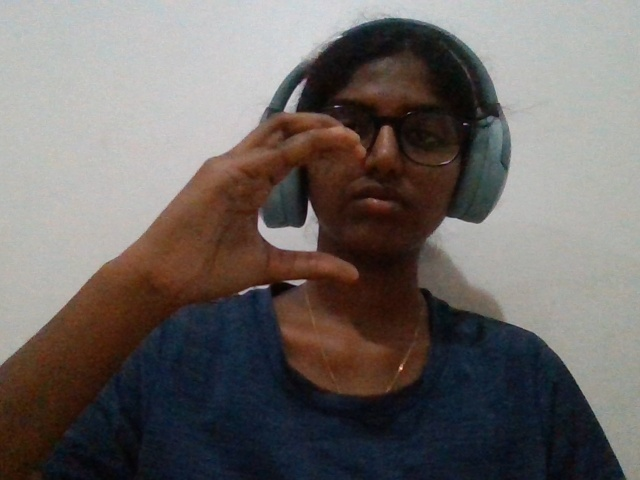C: (81, 94, 397, 438)
